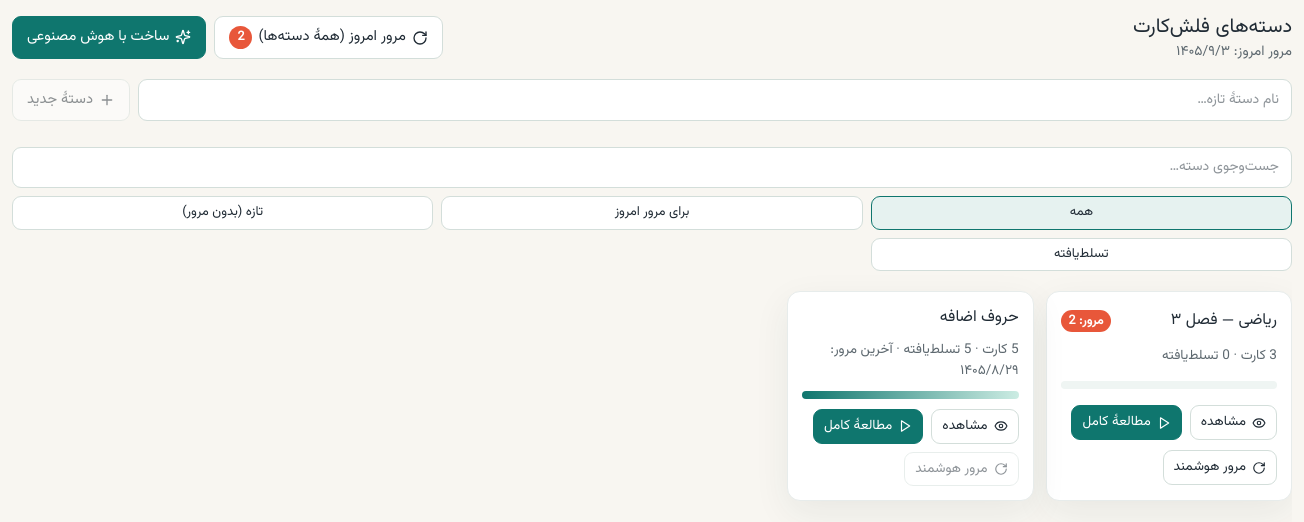
Test: FlashcardsWorkspace — Phase 03 library, card details, generation preview › searches the deck library and filters by study status (real API list only)
Expected: the heading "ریاضی — فصل ۳" is shown, [1171, 309, 1277, 333]
Expected: the heading "حروف اضافه" is shown, [940, 306, 1019, 330]
Type "حروف" into the field with placeholder "جست‌وجوی دسته…".
click(652, 168); type("حروف")  # box [12, 147, 1292, 188]
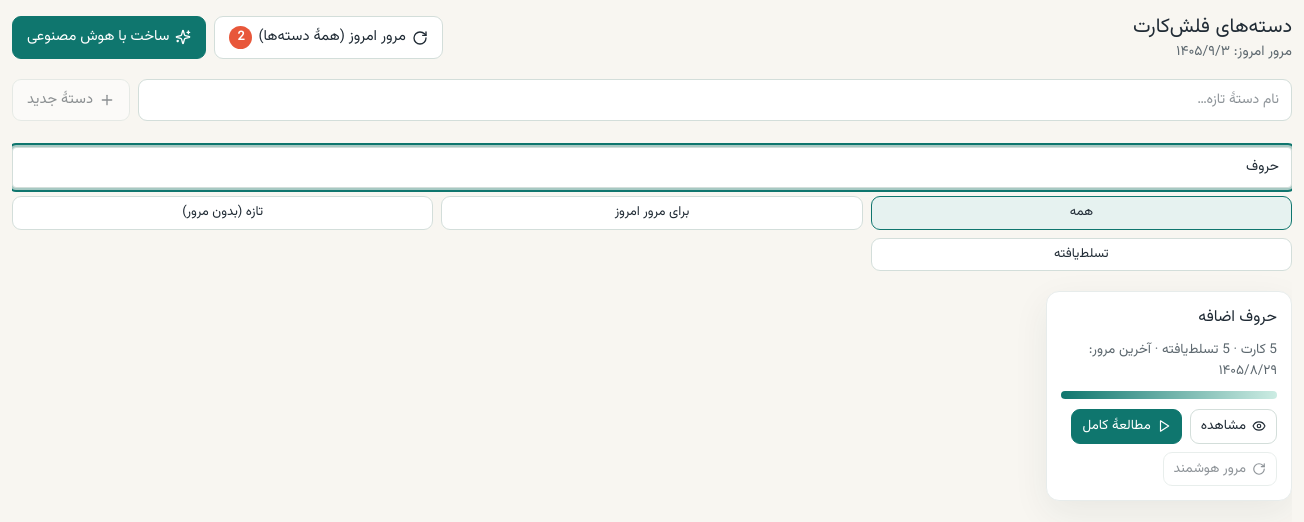
Expected: the heading "حروف اضافه" is shown, [1198, 306, 1277, 330]
Expected: the heading "ریاضی — فصل ۳" is gone
Clear the field with placeholder "جست‌وجوی دسته…" at [652, 168], box [12, 147, 1292, 188]
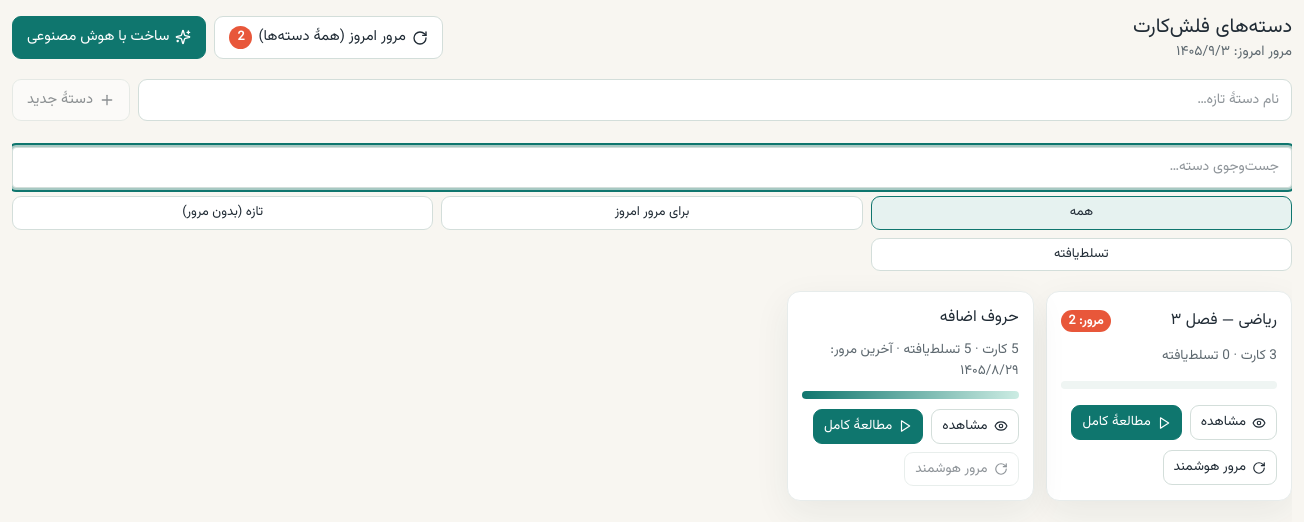
Click the button "برای مرور امروز".
click(652, 213)  # box [441, 196, 863, 230]
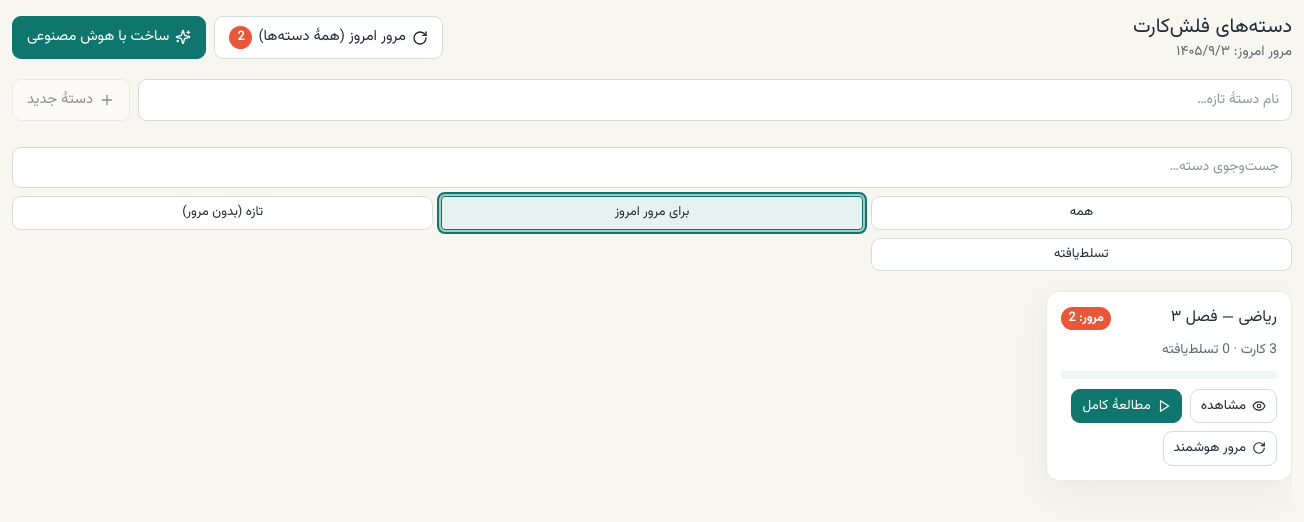
Expected: the heading "ریاضی — فصل ۳" is shown, [1171, 306, 1277, 330]
Expected: the heading "حروف اضافه" is gone
